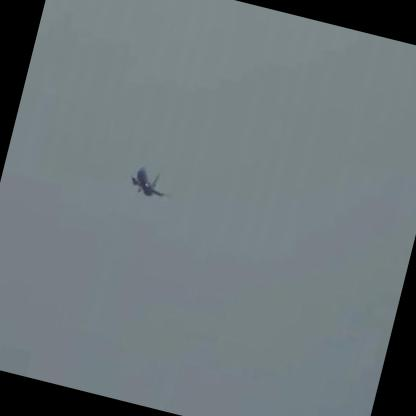plane: (129, 165, 177, 202)
